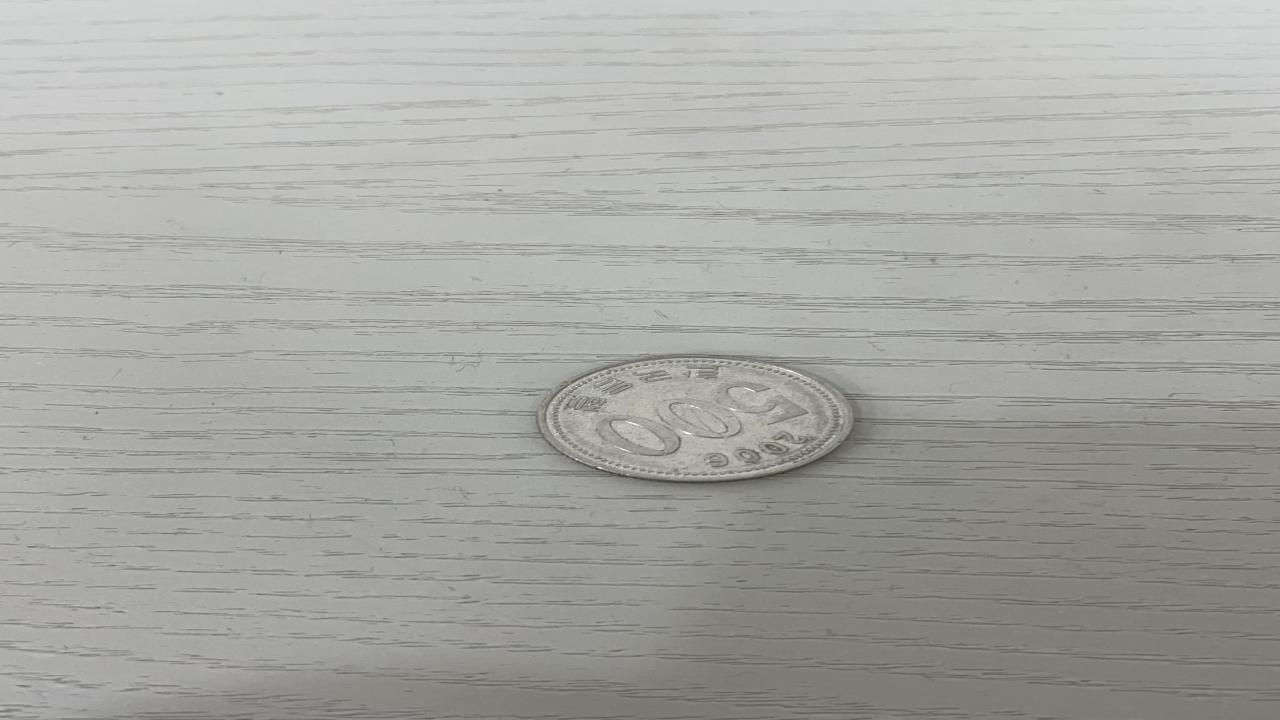coin: (530, 353, 857, 484)
